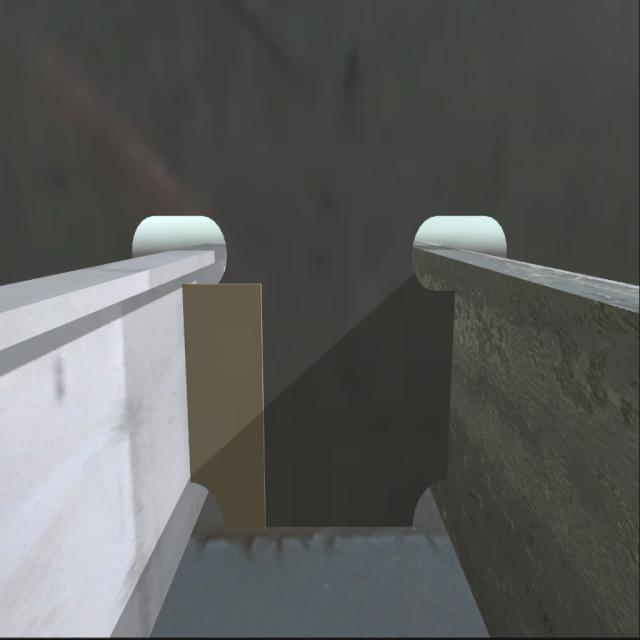fillet_hole: (187, 477, 222, 537), (410, 484, 444, 534)
fillet_yong_jeop_jang: (220, 516, 421, 538)
longi_yong_jeop_jang: (440, 288, 459, 486), (181, 281, 195, 483)
plate_CP01: (182, 278, 266, 532)
